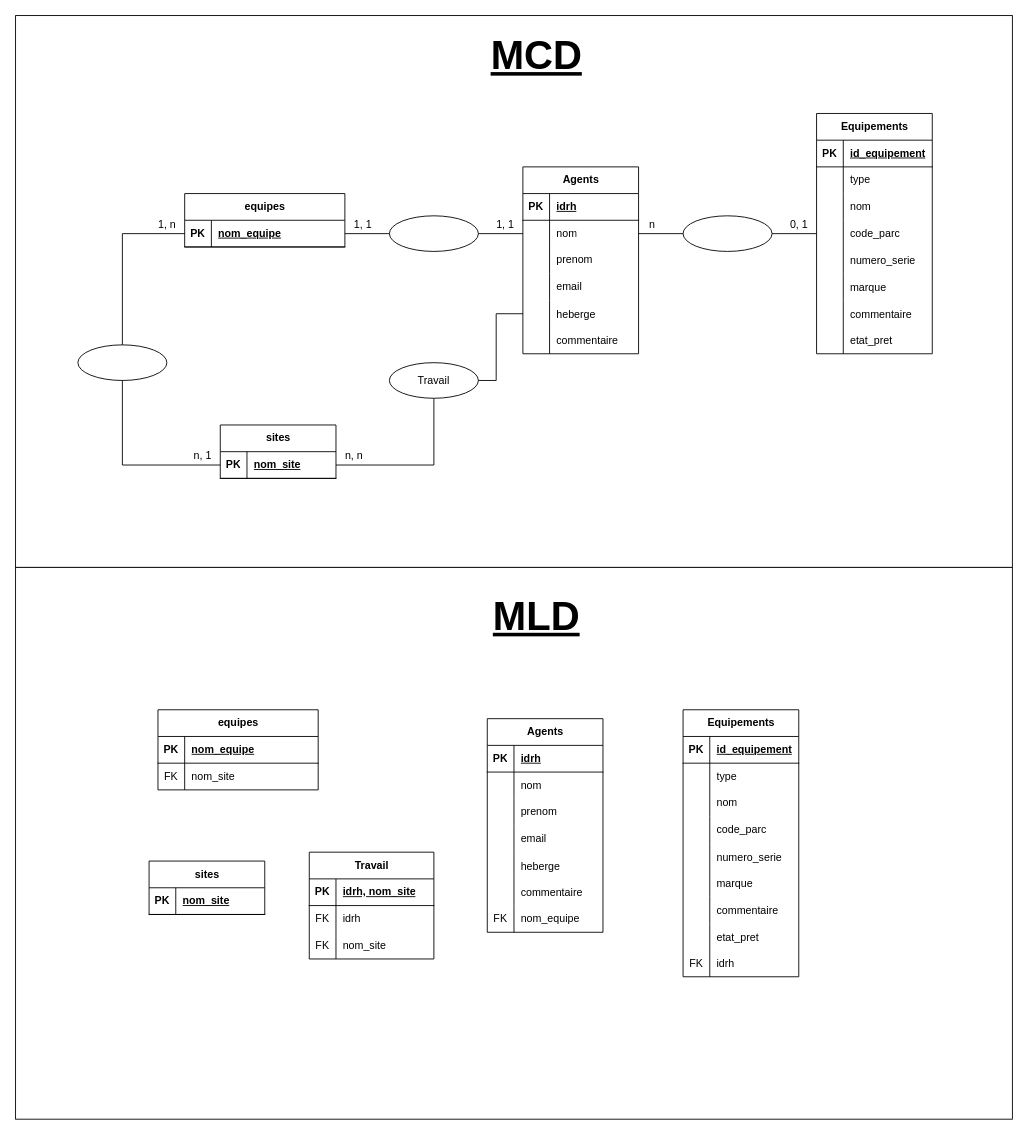
The diagram is 1028 pixels wide and 1135 high, and some of its shapes have lost their labels. The box of each missing label's shape, as (x1, y1, x2, y2) in pixels:
Affecter: (388, 215, 478, 251)
Equiper: (682, 215, 772, 251)
Heberger: (77, 344, 167, 380)
